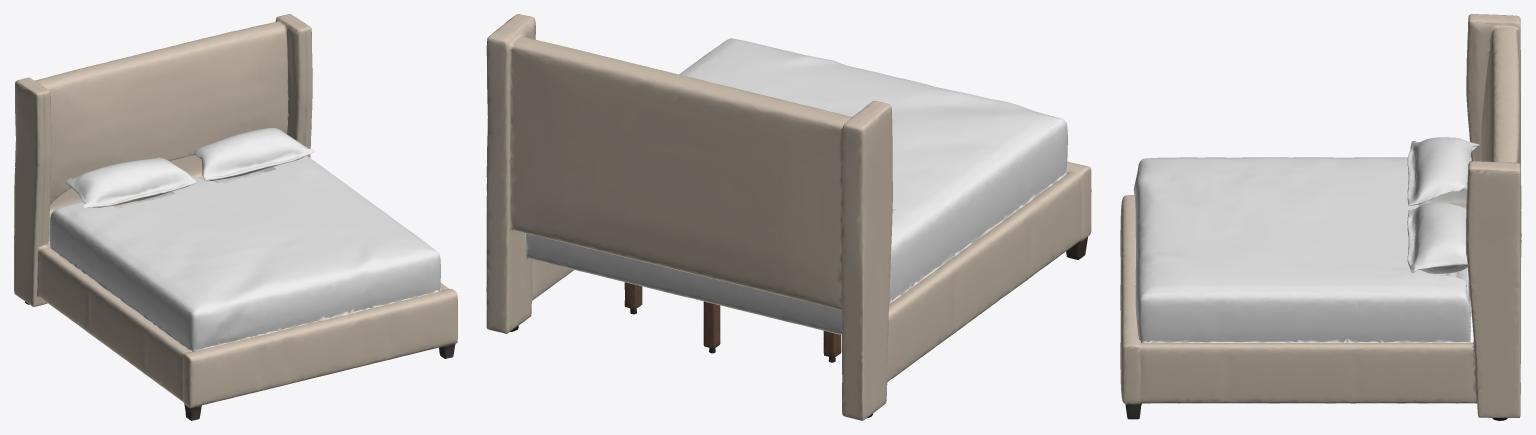
Rendered from B075QBL1V8.glb.
3 renders of one model, left to right at view 1: azimuth 30°, elevation 25°; view 2: azimuth 150°, elevation 25°; view 3: azimuth 270°, elevation 25°, orthographic. The views are drawn at different scales.
Visible parts, largest first — view 1: geometry_0; view 2: geometry_0; view 3: geometry_0.
Boxes of the visible parts, x1,y1,x2,y2 form: geometry_0: (14,14,457,420); geometry_0: (486,14,1091,420); geometry_0: (1120,14,1521,420).
Bounding box in the file's own units: 0.5669 × 0.4305 × 0.6134.
1 material, 1 textured.
